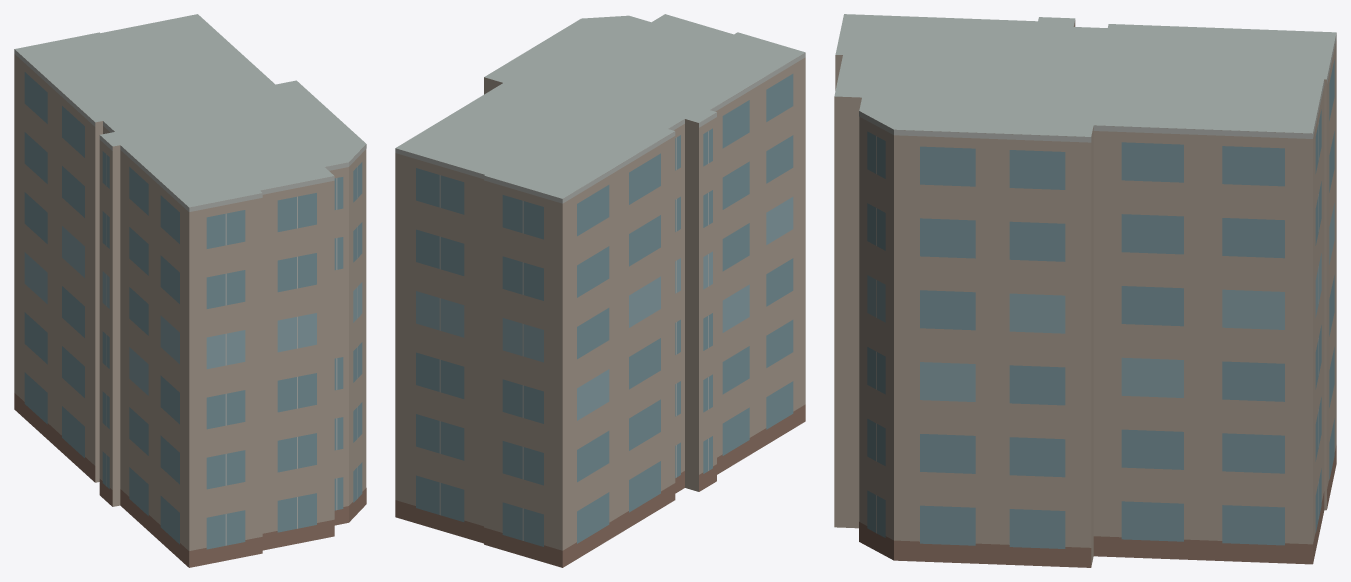
Rendered from survey-upis-33038663.glb.
The picture shows the model from 3 angles, left to right: view 1: azimuth 30°, elevation 25°; view 2: azimuth 150°, elevation 25°; view 3: azimuth 270°, elevation 25°; orthographic projection. The views are drawn at different scales.
Visible parts, largest first — view 1: survey-upis-33038663.tmp; view 2: survey-upis-33038663.tmp; view 3: survey-upis-33038663.tmp.
Part boxes in pixels (bbox=[...]): survey-upis-33038663.tmp: bbox=[14, 14, 366, 567]; survey-upis-33038663.tmp: bbox=[395, 14, 805, 567]; survey-upis-33038663.tmp: bbox=[834, 14, 1336, 567].
Size of the model in its own units: 11.52 by 18.8 by 19.87.
